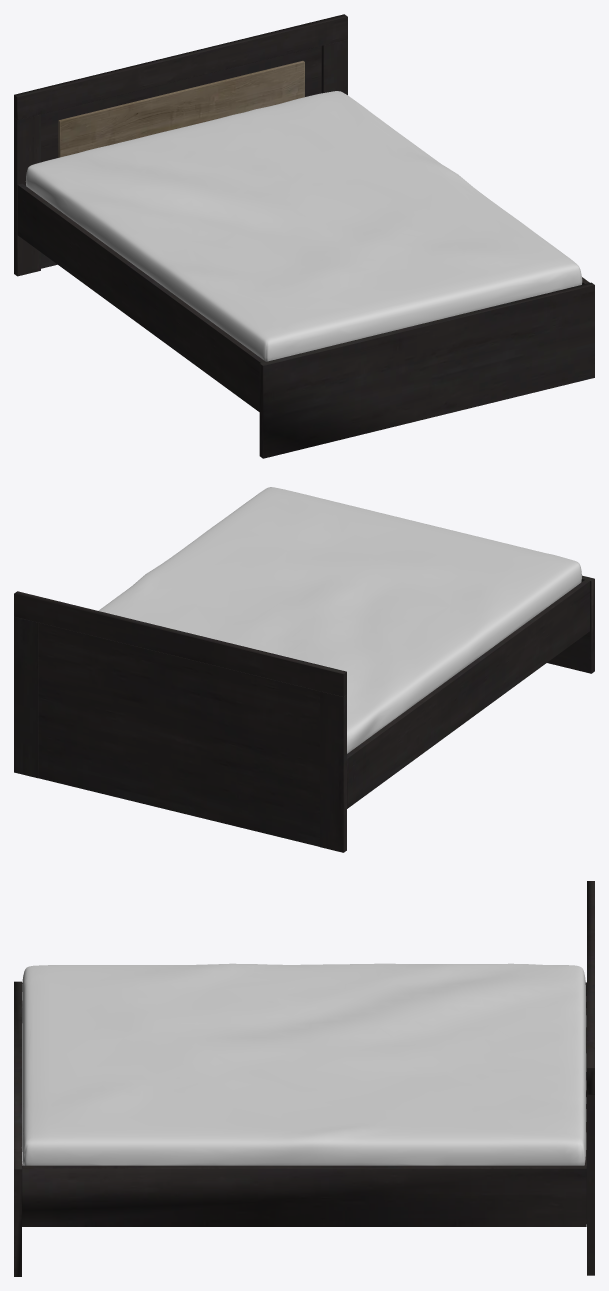
Rendered from B07L1DDXLR.glb.
3 renders of one model, top to bottom at view 1: azimuth 30°, elevation 25°; view 2: azimuth 150°, elevation 25°; view 3: azimuth 270°, elevation 25°, orthographic. The views are drawn at different scales.
Parts seen in each view (by area): view 1: RootNode; view 2: RootNode; view 3: RootNode.
Boxes of the visible parts, x1,y1,x2,y2 form: RootNode: (14, 14, 594, 458); RootNode: (14, 487, 594, 852); RootNode: (14, 881, 594, 1276).
Bounding box in the file's own units: 1.59 × 0.8229 × 2.07.
Materials: 1 (1 with a texture image).
